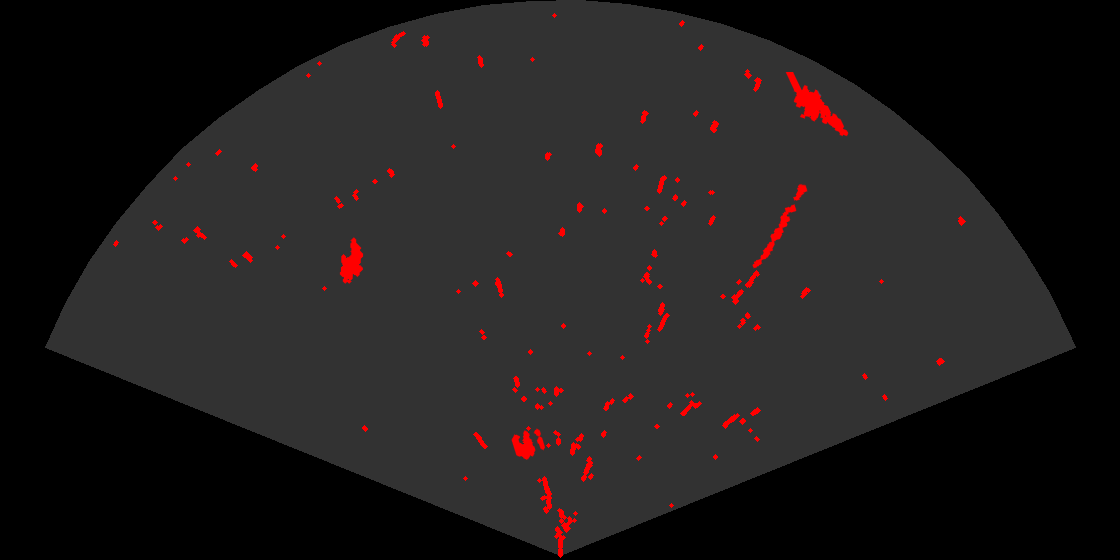AUV: (338, 236, 364, 285)
ball: (510, 427, 547, 461)
chain: (751, 182, 809, 270)
frogman: (784, 72, 850, 138)
